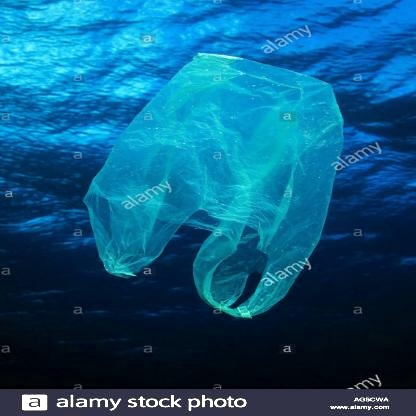pbag: (86, 53, 345, 319)
